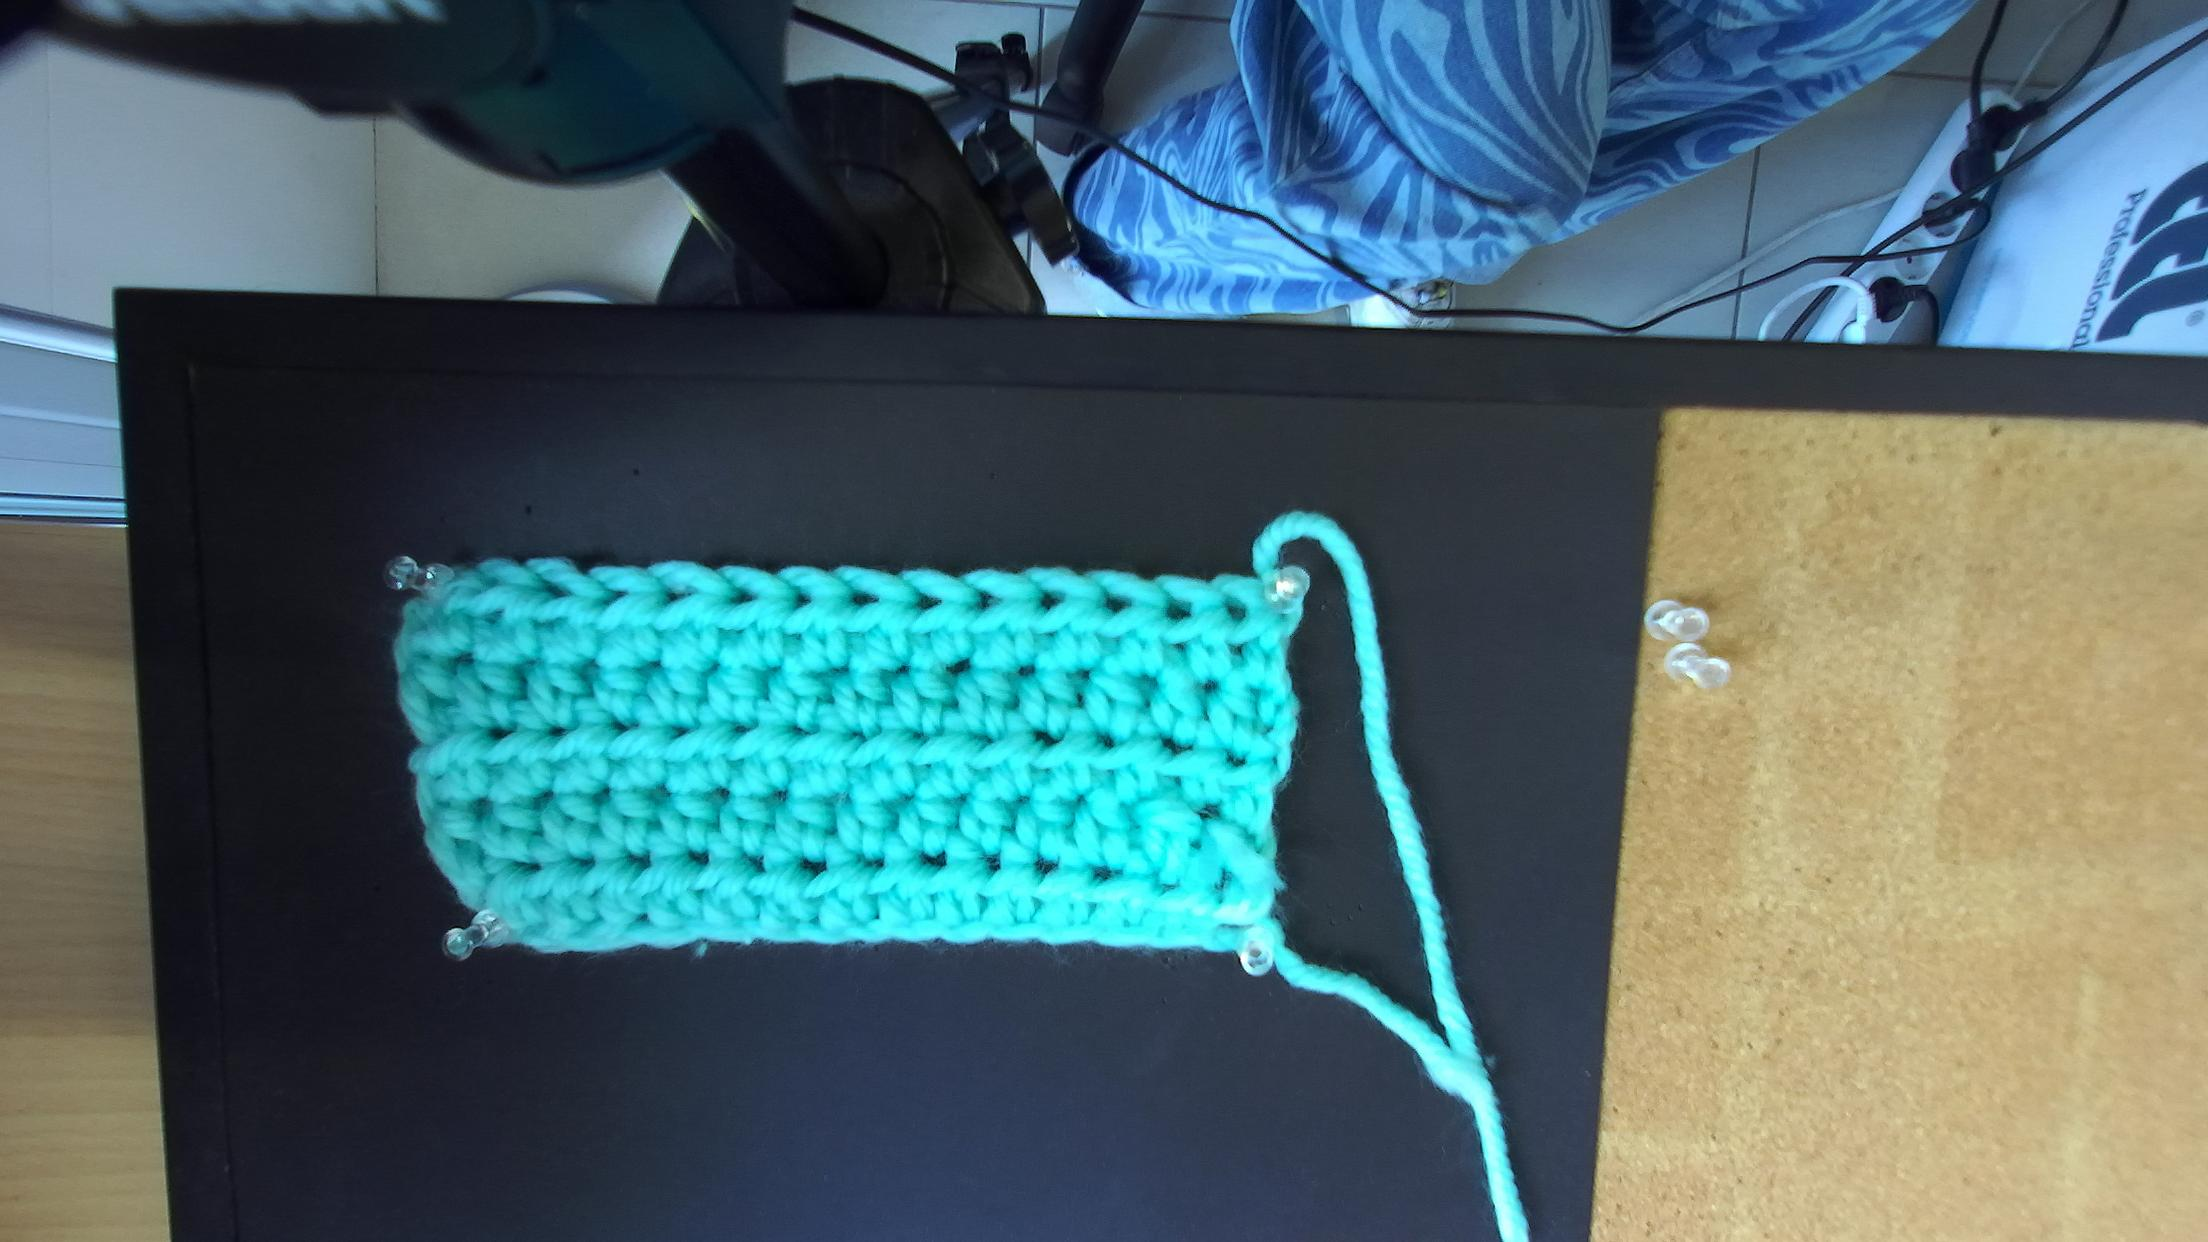hole: (537, 575, 573, 604), (1162, 596, 1193, 623), (1099, 591, 1131, 617), (908, 590, 942, 613), (469, 576, 503, 597), (1222, 594, 1247, 625), (661, 585, 695, 607), (599, 587, 628, 610), (725, 587, 758, 605), (975, 590, 999, 614), (1036, 591, 1062, 614), (789, 588, 811, 613), (851, 590, 880, 608)
swatch: (388, 558, 1313, 961)
